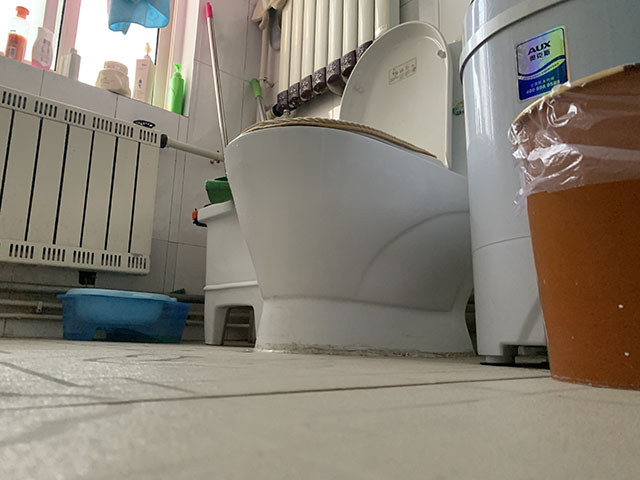closestool: (222, 20, 477, 359)
trashcan: (505, 60, 640, 392)
